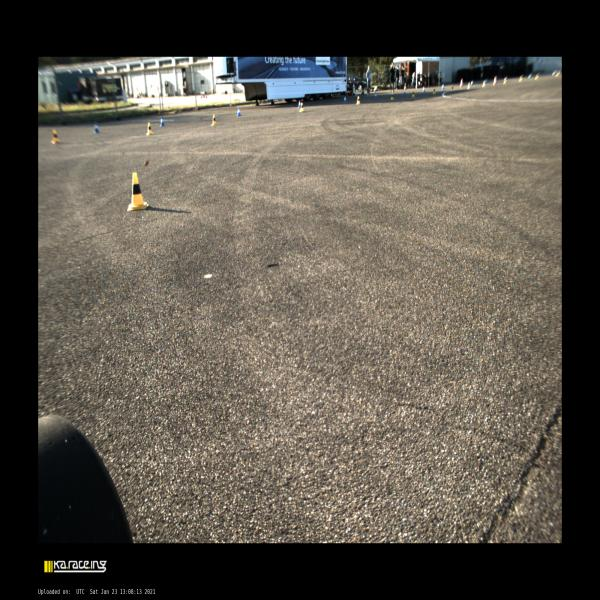blue_cone: (94, 122, 100, 133), (160, 117, 165, 126), (237, 107, 241, 116), (298, 100, 301, 108), (422, 86, 426, 92), (374, 92, 377, 99), (403, 89, 406, 95), (344, 96, 346, 102), (442, 84, 444, 90), (471, 80, 473, 86), (528, 74, 530, 79), (485, 79, 487, 84), (552, 72, 554, 76)
large_orange_cone: (493, 76, 496, 85), (460, 78, 462, 87)
yellow_cone: (127, 173, 149, 210), (51, 130, 61, 144), (146, 122, 154, 135), (211, 114, 217, 126), (299, 102, 304, 112), (356, 95, 360, 104), (390, 93, 394, 100), (412, 91, 416, 98), (503, 77, 507, 84), (467, 82, 470, 89), (482, 80, 485, 87), (451, 85, 454, 91), (433, 88, 435, 94), (519, 77, 521, 82), (535, 75, 537, 80), (556, 72, 558, 76)
